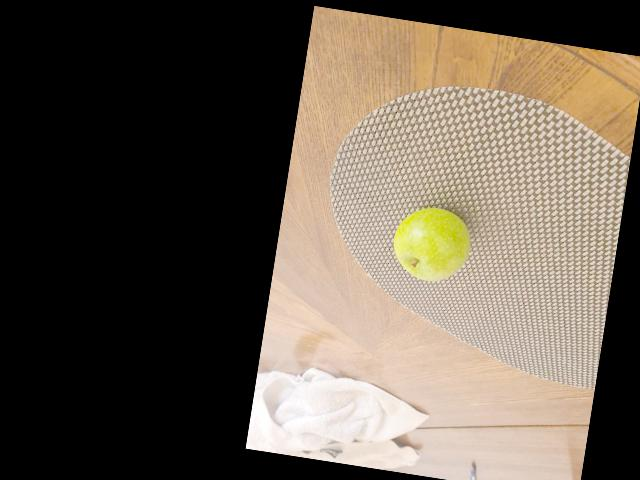apple: (389, 202, 471, 285)
